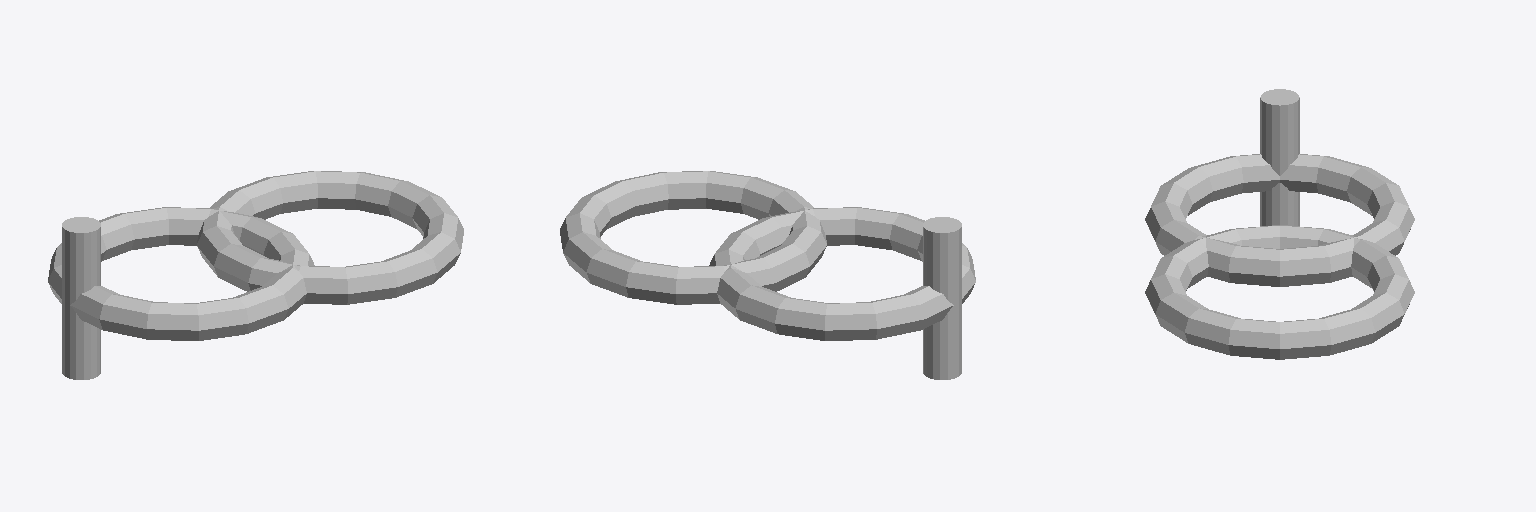
Rendered from junc.obj.
The picture shows the model from 3 angles: view 1: azimuth 30°, elevation 25°; view 2: azimuth 150°, elevation 25°; view 3: azimuth 270°, elevation 25°; orthographic projection.
Parts seen in each view (by area): view 1: dunkit; view 2: dunkit; view 3: dunkit.
Part boxes in pixels (left/top/right/bottom): dunkit: left=48, top=171, right=463, bottom=379; dunkit: left=560, top=171, right=975, bottom=379; dunkit: left=1145, top=89, right=1414, bottom=359.
Size of the model in its own units: 5.45 by 2 by 3.33.